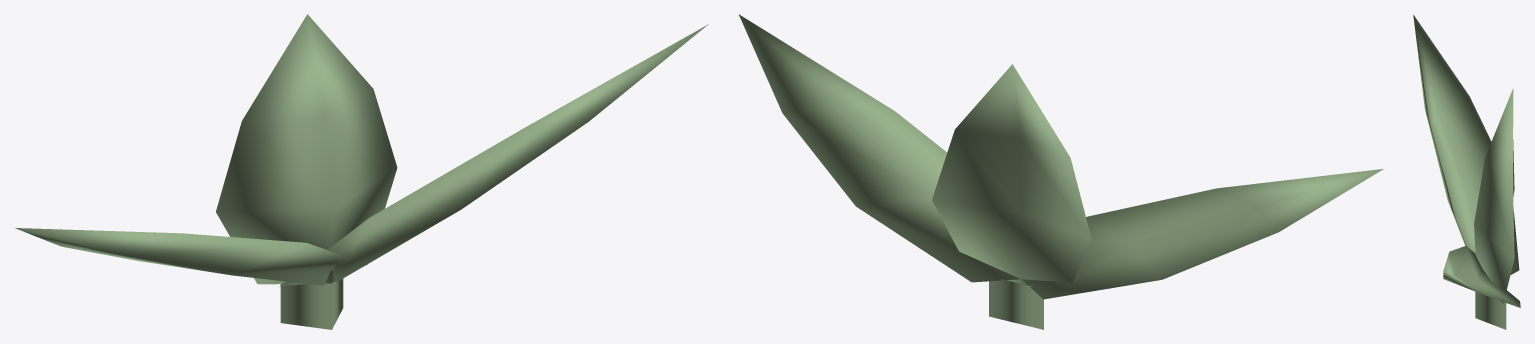
Rendered from agave_leaf.glb.
3 renders of one model, left to right at view 1: azimuth 30°, elevation 25°; view 2: azimuth 150°, elevation 25°; view 3: azimuth 270°, elevation 25°, orthographic. The views are drawn at different scales.
Visible parts, largest first — view 1: agave_leaf; view 2: agave_leaf; view 3: agave_leaf.
Part boxes in pixels (bbox=[...]): agave_leaf: bbox=[15, 14, 708, 329]; agave_leaf: bbox=[739, 14, 1383, 329]; agave_leaf: bbox=[1413, 15, 1520, 329].
Size of the model in its own units: 2.85 by 1.14 by 0.4815.
